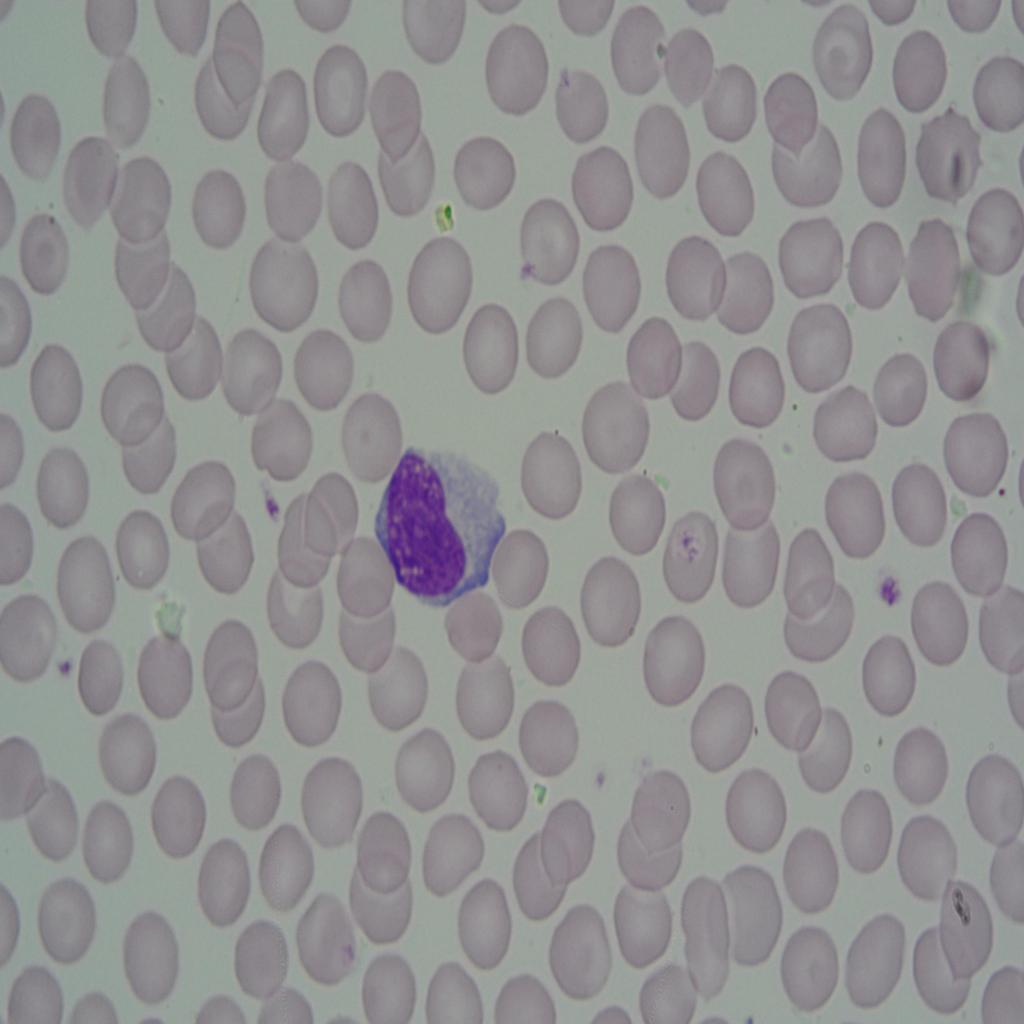Myeoblast: (373, 444, 492, 602)
Platelet: (49, 638, 86, 690), (871, 562, 901, 610), (506, 252, 540, 292), (262, 485, 284, 529)
